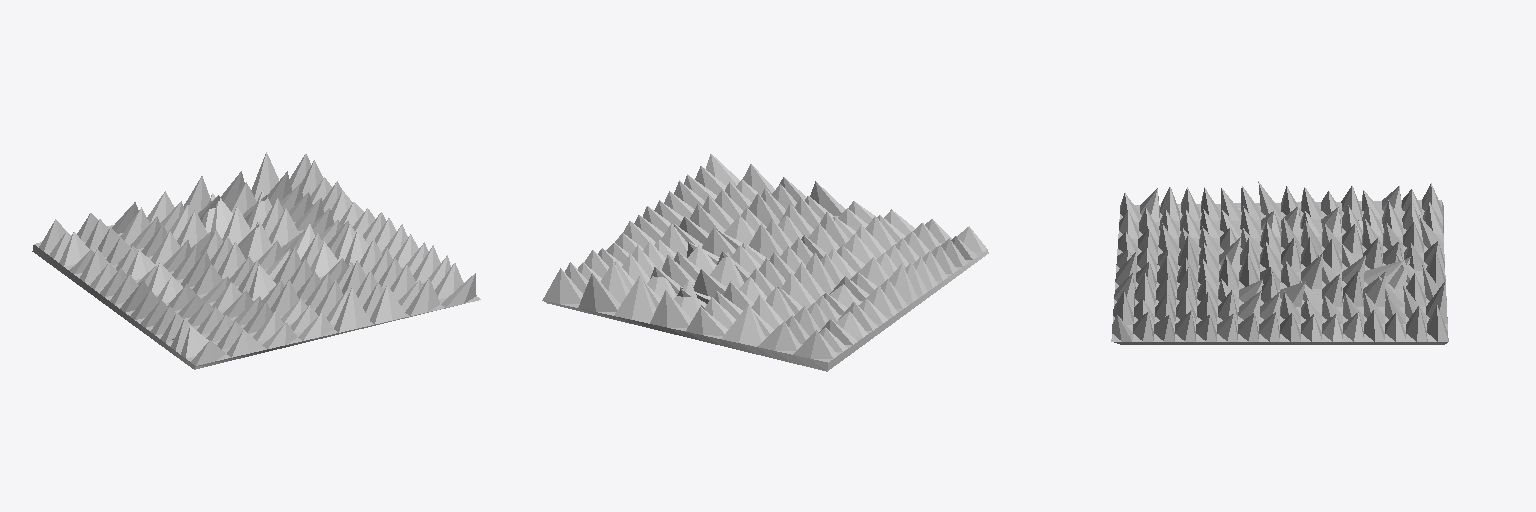
Rendered from grass shape.obj.
The picture shows the model from 3 angles: view 1: azimuth 30°, elevation 25°; view 2: azimuth 150°, elevation 25°; view 3: azimuth 270°, elevation 25°; orthographic projection.
Parts seen in each view (by area): view 1: Cube; view 2: Cube; view 3: Cube.
Part boxes in pixels (bbox=[...]): Cube: bbox=[32, 152, 480, 369]; Cube: bbox=[542, 154, 988, 371]; Cube: bbox=[1111, 181, 1448, 344].
Bounding box in the file's own units: 2.02 × 0.2882 × 2.09.